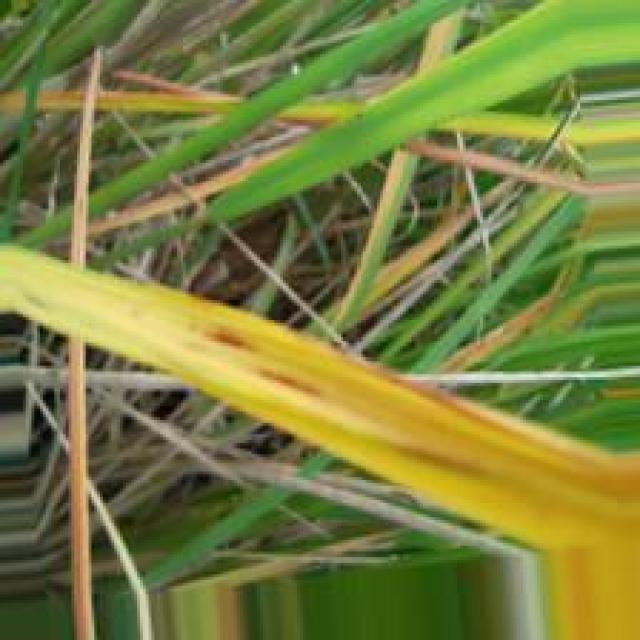Narrow_Brown_Leaf_Spot: (4, 242, 640, 556)
